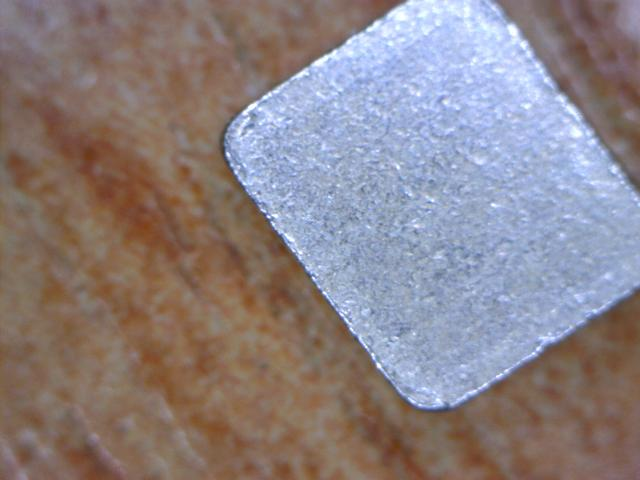ok: (210, 5, 629, 417)
